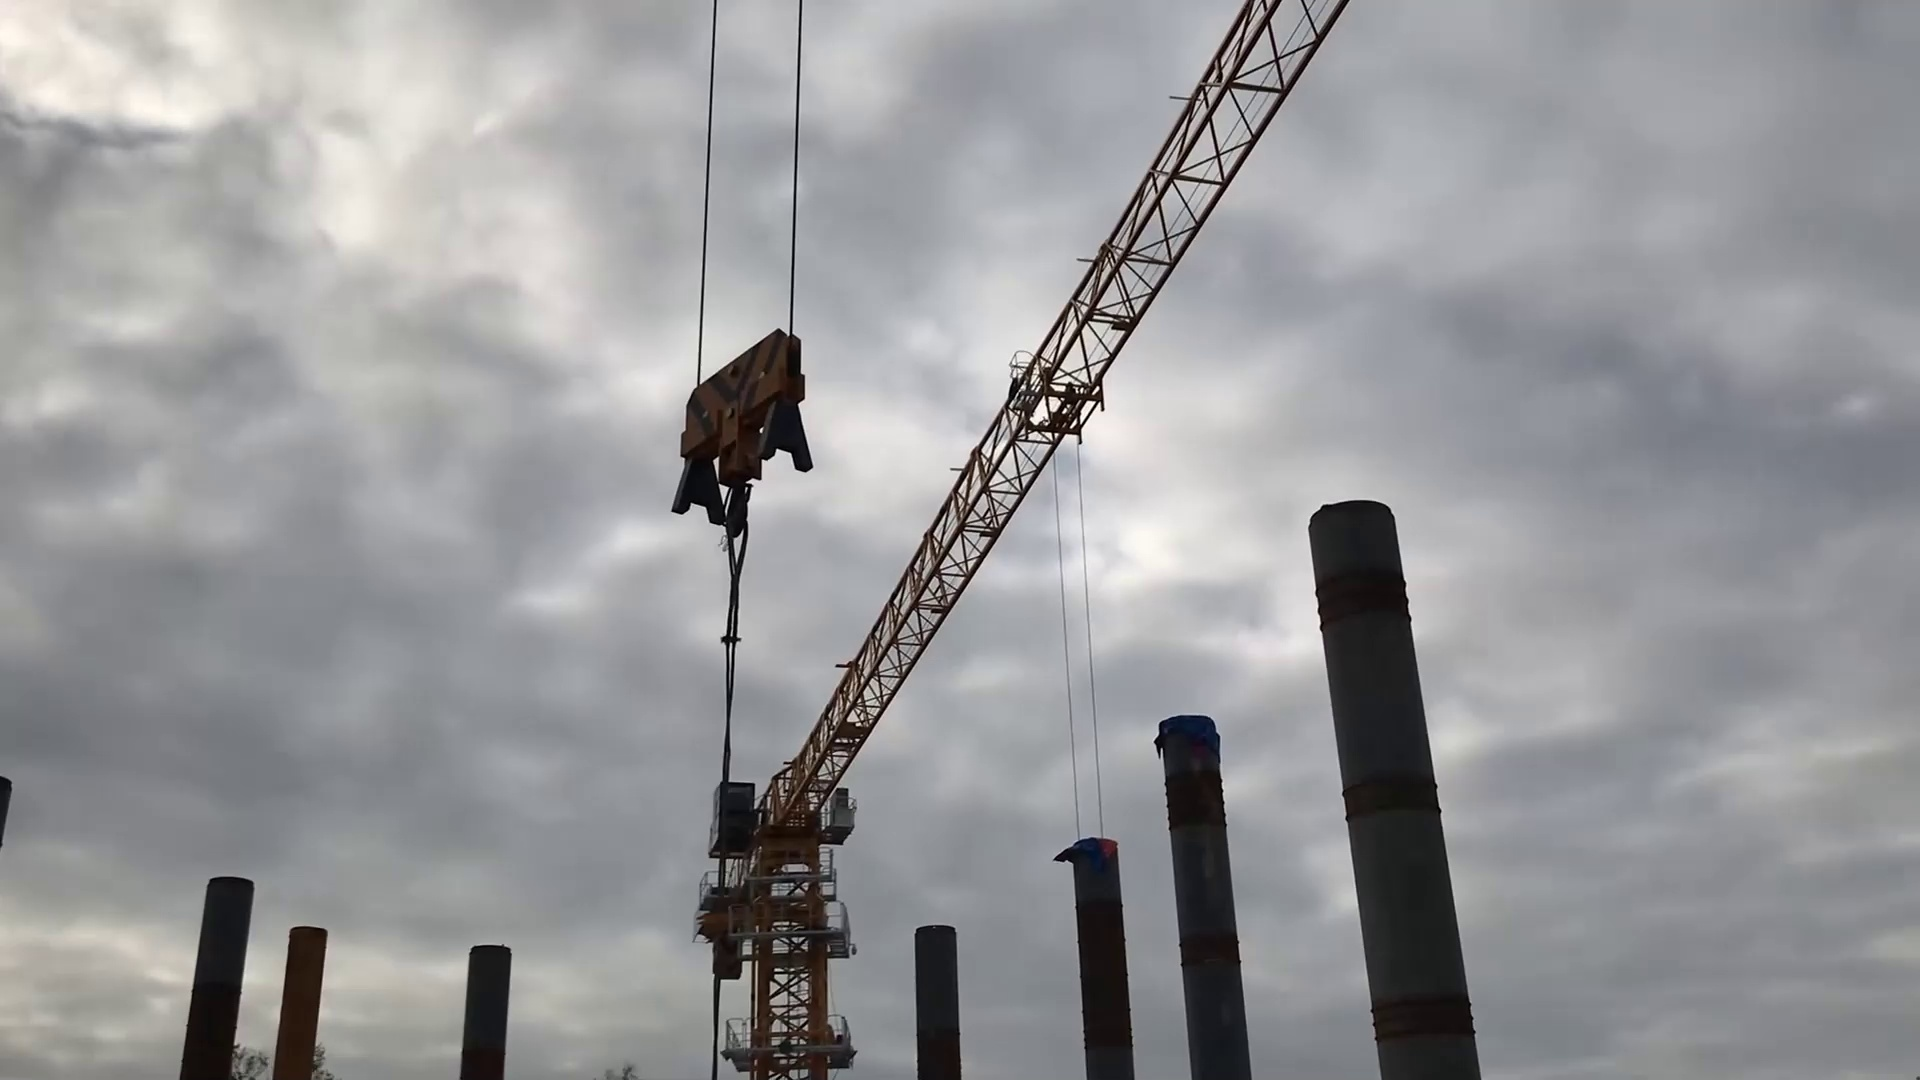hook: (667, 323, 822, 545)
